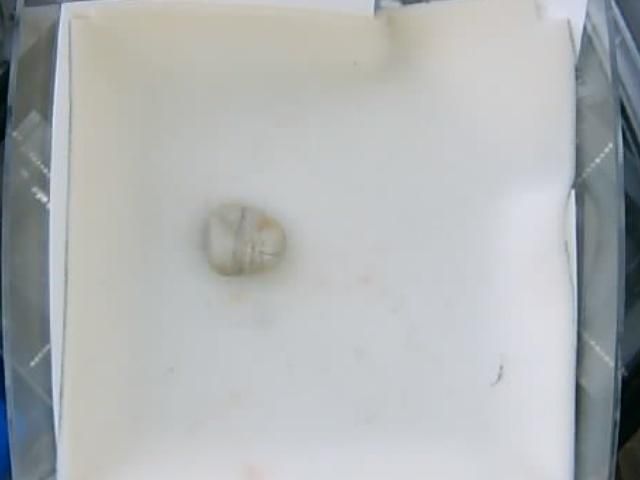Pebble: (204, 204, 286, 278)
